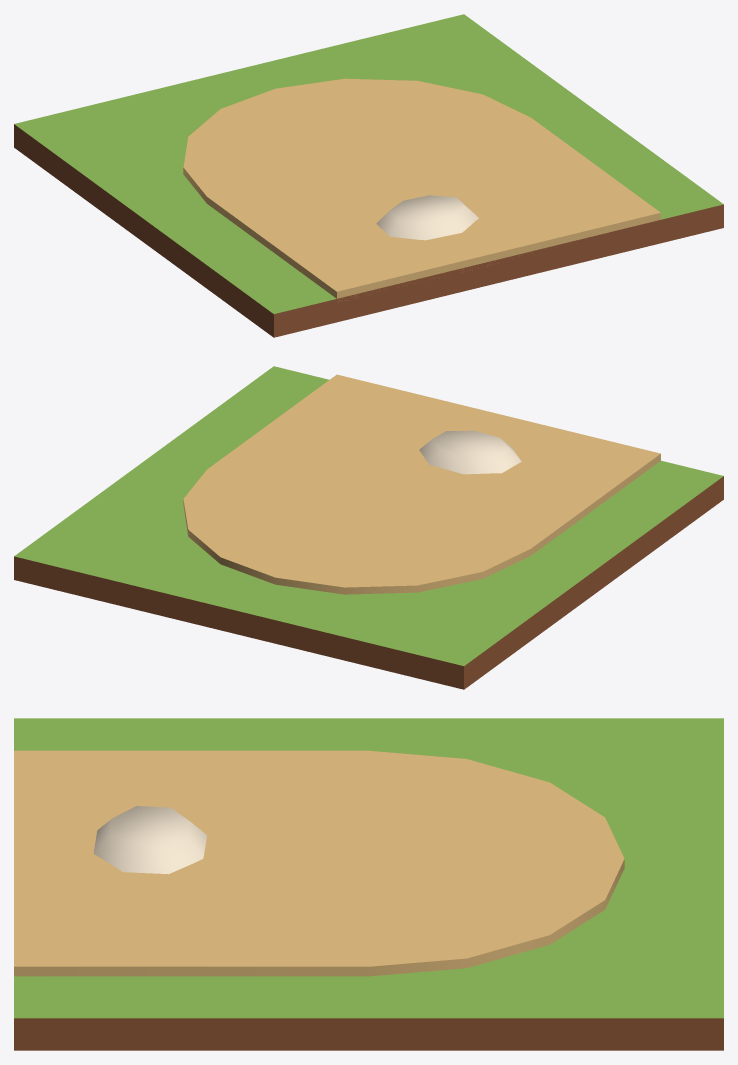
Rendered from path_tile_end.glb.
The picture shows the model from 3 angles, top to bottom: view 1: azimuth 30°, elevation 25°; view 2: azimuth 150°, elevation 25°; view 3: azimuth 270°, elevation 25°; orthographic projection. The views are drawn at different scales.
Parts seen in each view (by area): view 1: path_tile_end; view 2: path_tile_end; view 3: path_tile_end.
Boxes of the visible parts, <box> form: path_tile_end: <box>14,14,723,337</box>; path_tile_end: <box>14,366,723,689</box>; path_tile_end: <box>14,718,723,1050</box>.
Size of the model in its own units: 1 by 0.09 by 1.
1 material, 1 textured.
